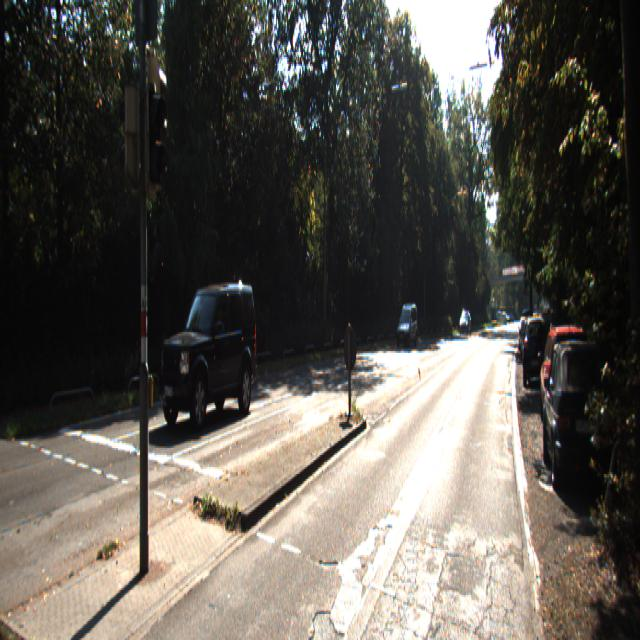Car: (156, 278, 259, 438), (541, 331, 619, 506), (537, 319, 598, 449), (522, 314, 548, 387), (396, 304, 419, 352)
